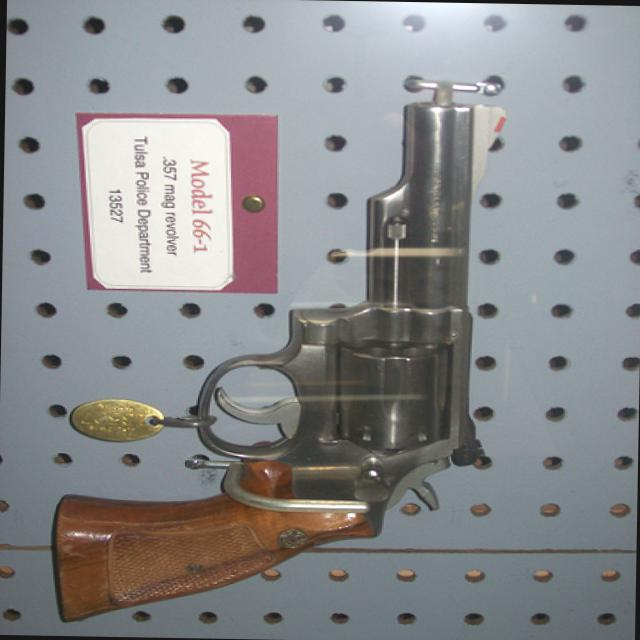handgun: (52, 94, 498, 630)
